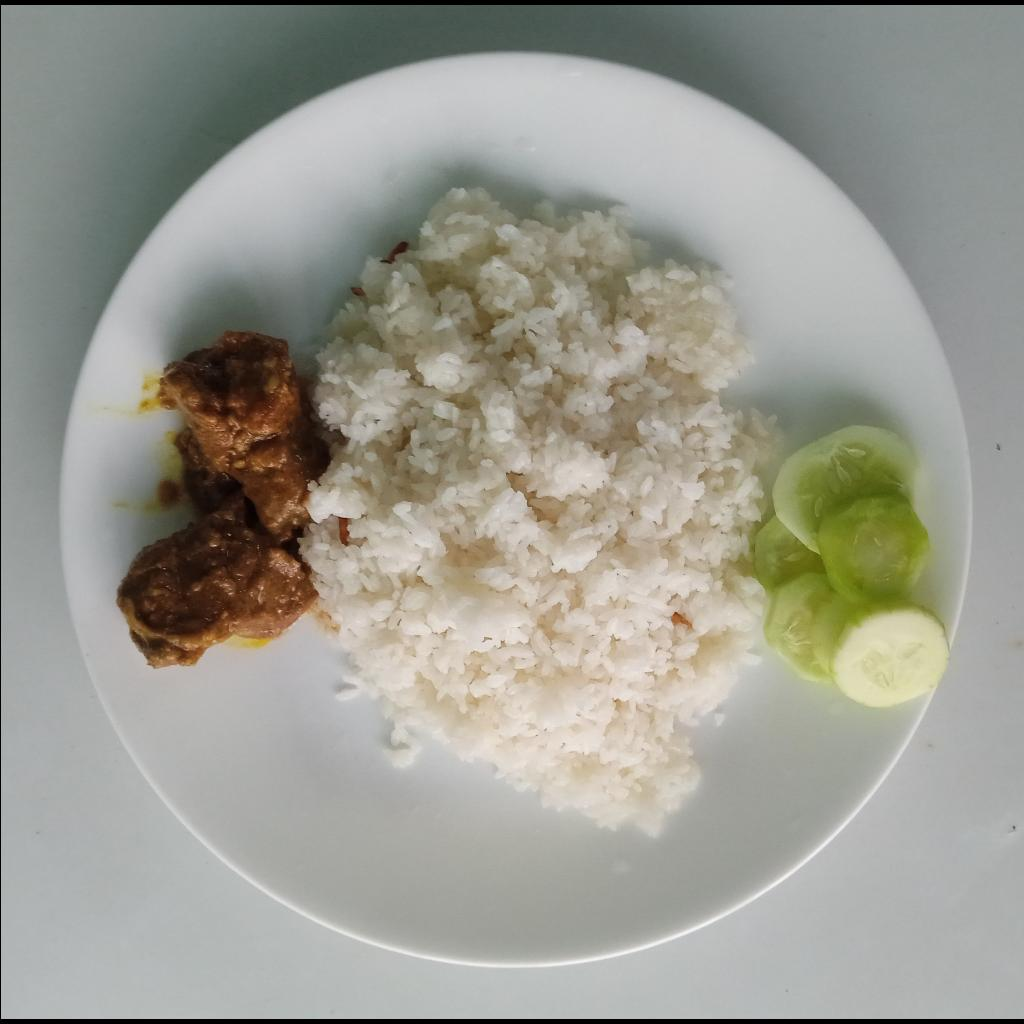beef: (116, 331, 313, 669)
cucumber: (755, 421, 950, 710)
rice: (299, 183, 785, 838)
